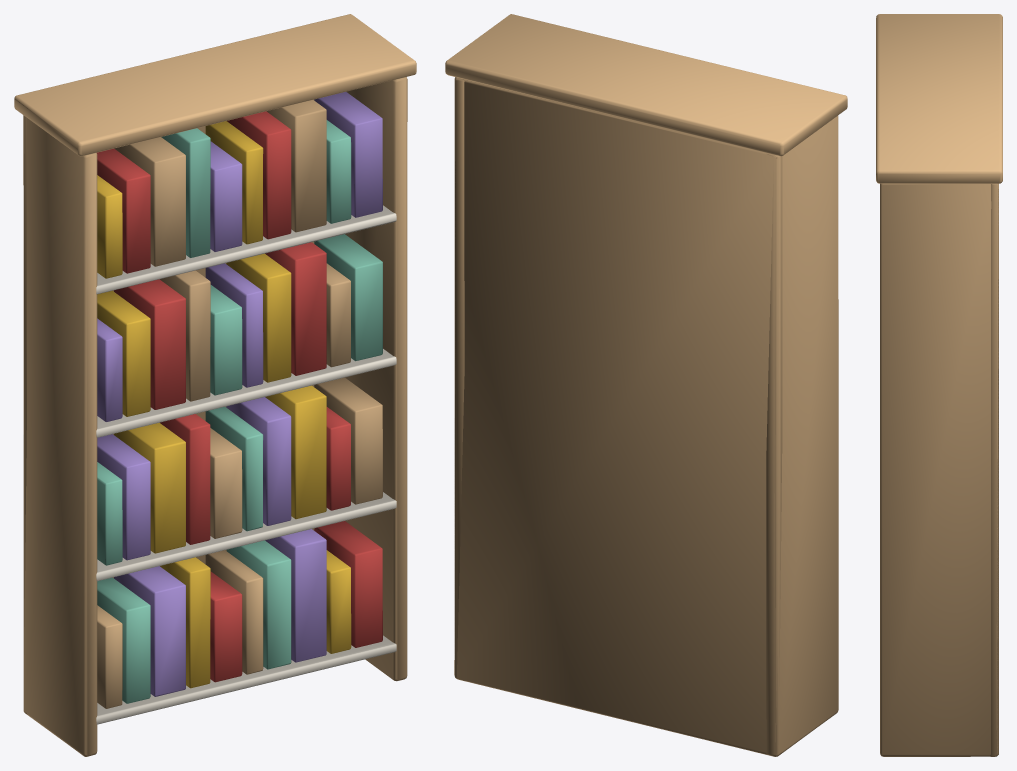
File: gift-noor.glb
The picture shows the model from 3 angles, left to right: view 1: azimuth 30°, elevation 25°; view 2: azimuth 150°, elevation 25°; view 3: azimuth 270°, elevation 25°; orthographic projection. The views are drawn at different scales.
Visible parts, largest first — view 1: gift-noor; view 2: gift-noor; view 3: gift-noor.
Boxes of the visible parts, box(x1,y1,x2,y2) form: gift-noor: box(14, 14, 416, 756); gift-noor: box(445, 14, 847, 756); gift-noor: box(876, 14, 1002, 756).
Bounding box in the file's own units: 0.939 × 1.64 × 0.3189.
